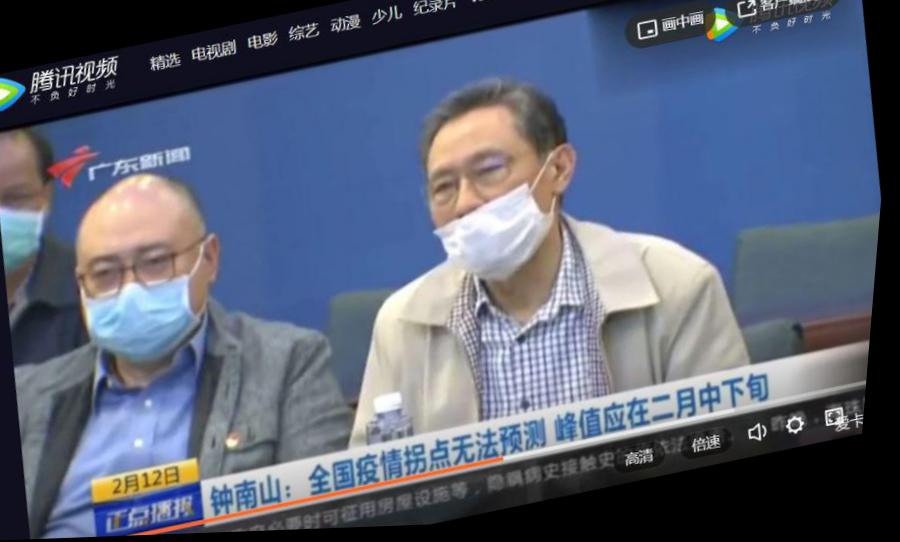OK: (73, 215, 228, 372), (1, 154, 62, 286)
WRONG: (419, 128, 572, 296)
